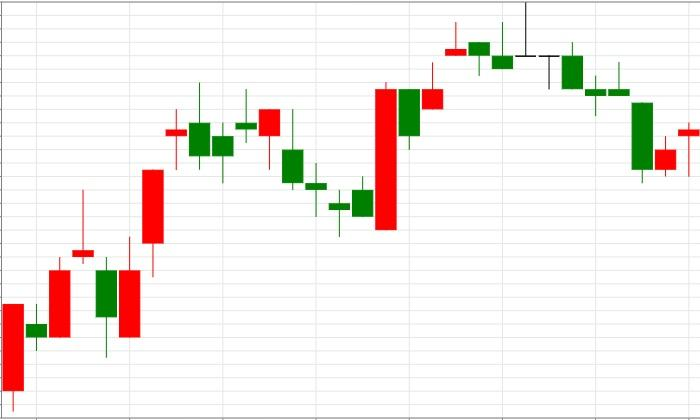bullish_engulfing_rise: (258, 81, 397, 238)
shooting_star_fall: (118, 81, 210, 337)
